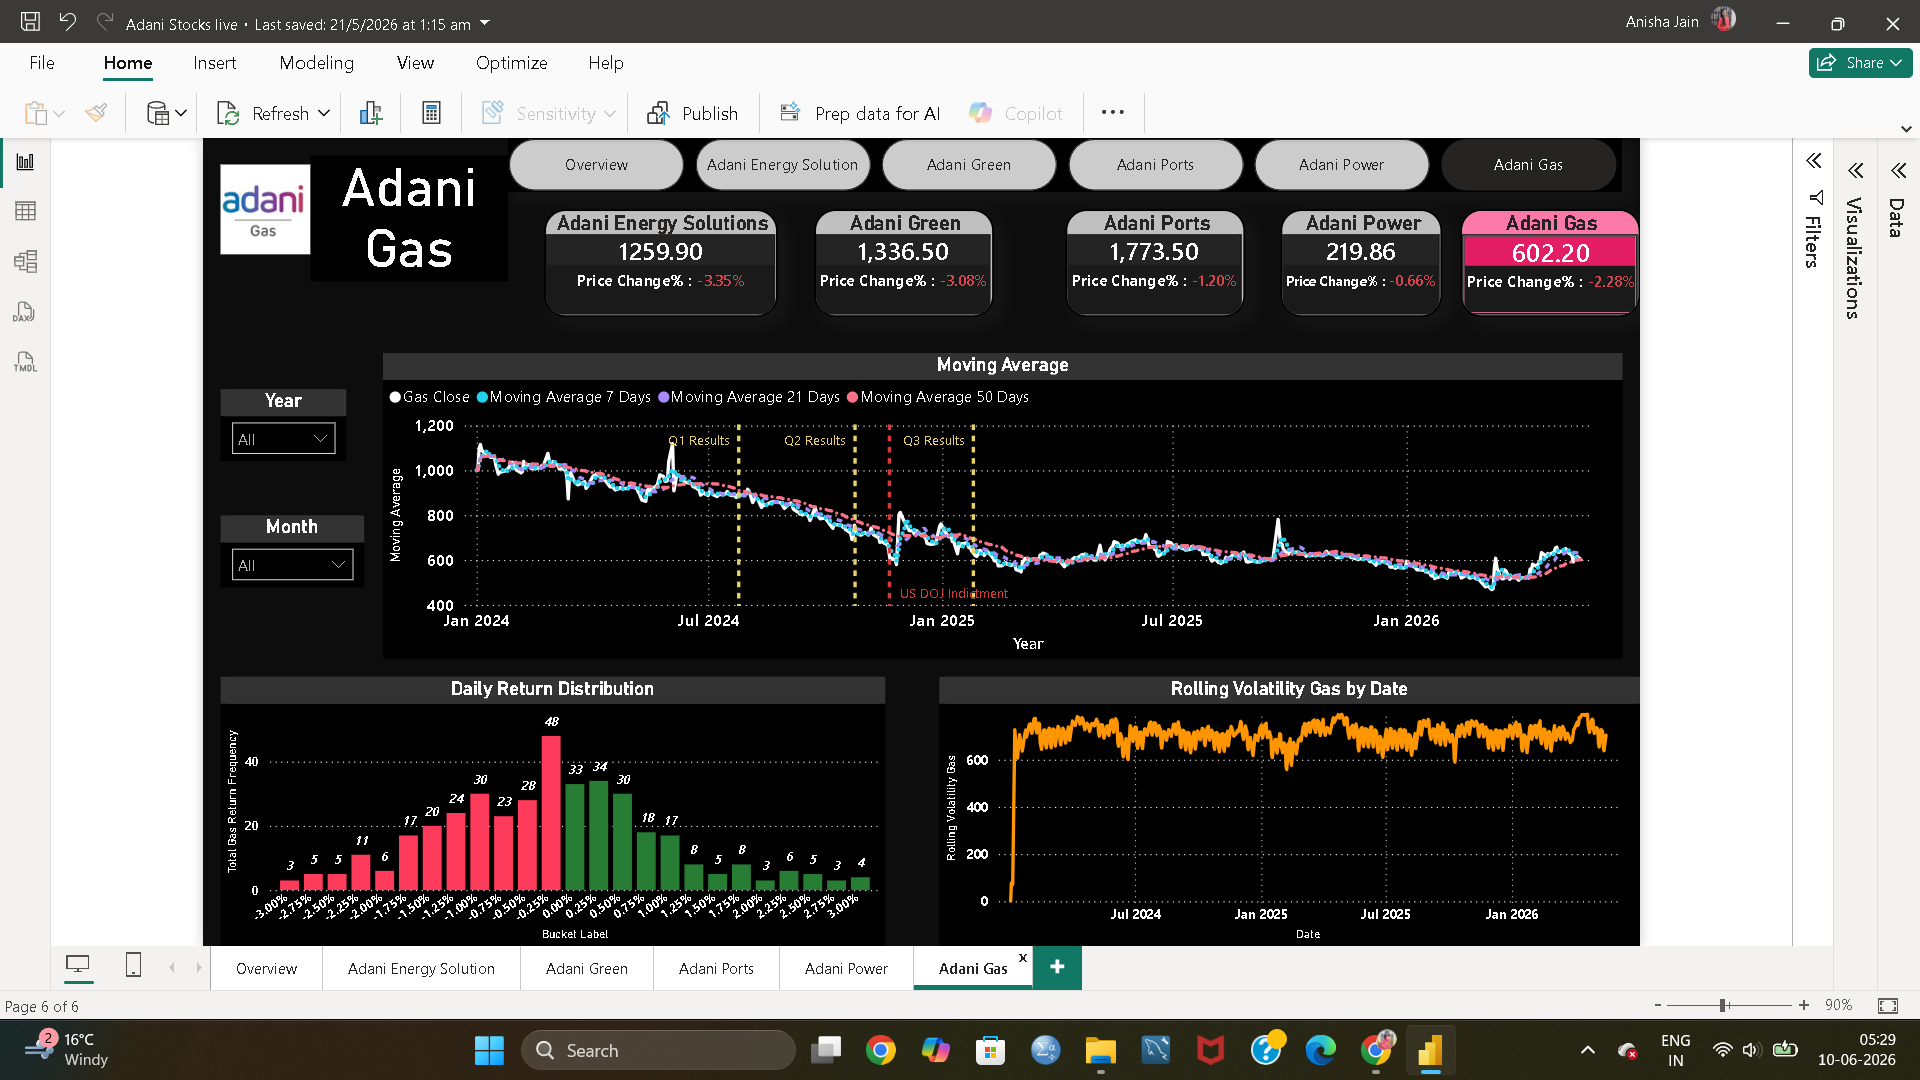

Layout of this report page (visuals, bound fields, positions):
{"tool":"powerbi","page":{"name":" Adani Gas","canvas":[1280,720],"ordinal":5},"visuals":[{"type":"cardVisual","title":"Adani Energy Solutions","fields":{"Data":["DAX Table.Current Price AENT"]},"box":[304,64,208,96],"z":0},{"type":"cardVisual","title":"Adani Power","fields":{"Data":["DAX Table.Current Price APOWER"]},"box":[960,64,144,96],"z":1000},{"type":"cardVisual","title":"Adani Ports ","fields":{"Data":["DAX Table.Current Price APorts"]},"box":[768,64,160,96],"z":2000},{"type":"cardVisual","title":"Adani Gas ","fields":{"Data":["DAX Table.Current Price ATotalGas"]},"box":[1120,64,160,96],"z":3000},{"type":"cardVisual","title":"Adani Green","fields":{"Data":["DAX Table.Current Price AGreen"]},"box":[544,64,160,96],"z":4000},{"type":"slicer","title":"Year","fields":{"Values":["Date Table.Year"]},"box":[16,224,112,64],"z":5000},{"type":"slicer","title":"Month","fields":{"Values":["Energy Solutions.Date.Variation.Date Hierarchy.Month"]},"box":[16,336,128,64],"z":6000},{"type":"columnChart","title":"Daily Return Distribution","fields":{"Y":["DAX Table.Total Gas Return Frequency"],"Category":["Green Return Buckets.Bucket Label"]},"box":[16,480,592,240],"z":7000},{"type":"lineChart","fields":{"Y":["DAX Table.Rolling Volatility Gas"],"Category":["Total Gas.Date Hierarchy.Date"]},"box":[656,480,624,240],"z":8000},{"type":"pageNavigator","box":[272,0,992,48],"z":9000},{"type":"textbox","title":"Adani Gas","box":[96,16,176,112],"z":10000},{"type":"image","box":[16,16,80,96],"z":11000},{"type":"lineChart","title":"Moving Average","fields":{"Y":["Avg(Gas.Gas Close)","MA.MA7 Total Gas","MA.MA21 Total Gas","MA.MA50 Total Gas"],"Category":["Green.Date.Variation.Date Hierarchy.Year","Green.Date.Variation.Date Hierarchy.Quarter","Green.Date.Variation.Date Hierarchy.Month","Green.Date.Variation.Date Hierarchy.Day"]},"box":[160,192,1104,272],"z":12000}]}

Visuals, with their boxes on the page's 1280x720 design canvas (x1, y1, x2, y2). These are canvas units, not pixel positions in the 1920x1080 screenshot, which may show the page scaled, cropped or inside an application window:
"Adani Energy Solutions" cardVisual: (x1=304, y1=64, x2=512, y2=160)
"Adani Power" cardVisual: (x1=960, y1=64, x2=1104, y2=160)
"Adani Ports " cardVisual: (x1=768, y1=64, x2=928, y2=160)
"Adani Gas " cardVisual: (x1=1120, y1=64, x2=1280, y2=160)
"Adani Green" cardVisual: (x1=544, y1=64, x2=704, y2=160)
"Year" slicer: (x1=16, y1=224, x2=128, y2=288)
"Month" slicer: (x1=16, y1=336, x2=144, y2=400)
"Daily Return Distribution" columnChart: (x1=16, y1=480, x2=608, y2=720)
lineChart - DAX Table.Rolling Volatility Gas x Total Gas.Date Hierarchy.Date: (x1=656, y1=480, x2=1280, y2=720)
pageNavigator: (x1=272, y1=0, x2=1264, y2=48)
"Adani Gas" textbox: (x1=96, y1=16, x2=272, y2=128)
image: (x1=16, y1=16, x2=96, y2=112)
"Moving Average" lineChart: (x1=160, y1=192, x2=1264, y2=464)
